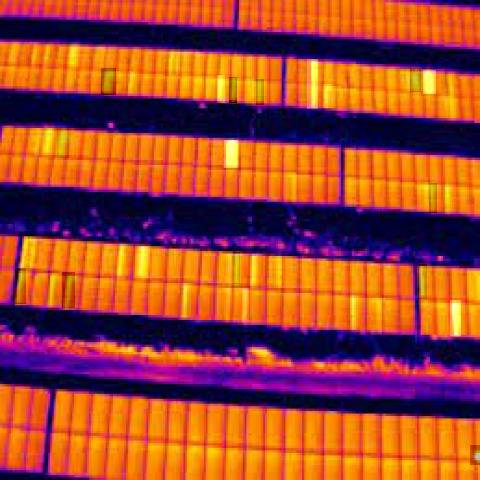fault: (135, 244, 152, 280), (307, 59, 318, 109), (62, 272, 75, 308), (114, 243, 126, 280), (348, 290, 358, 332), (101, 68, 116, 95), (450, 300, 461, 336), (15, 268, 26, 304), (224, 140, 238, 168), (48, 270, 58, 308), (179, 281, 189, 318), (57, 128, 69, 158), (418, 264, 427, 299), (423, 70, 436, 94), (250, 254, 258, 288), (410, 69, 421, 92), (242, 289, 249, 322), (443, 185, 451, 213), (218, 75, 226, 103), (233, 252, 240, 284), (323, 84, 332, 108), (229, 77, 237, 104), (430, 183, 437, 213), (256, 79, 264, 105), (470, 445, 480, 465)
